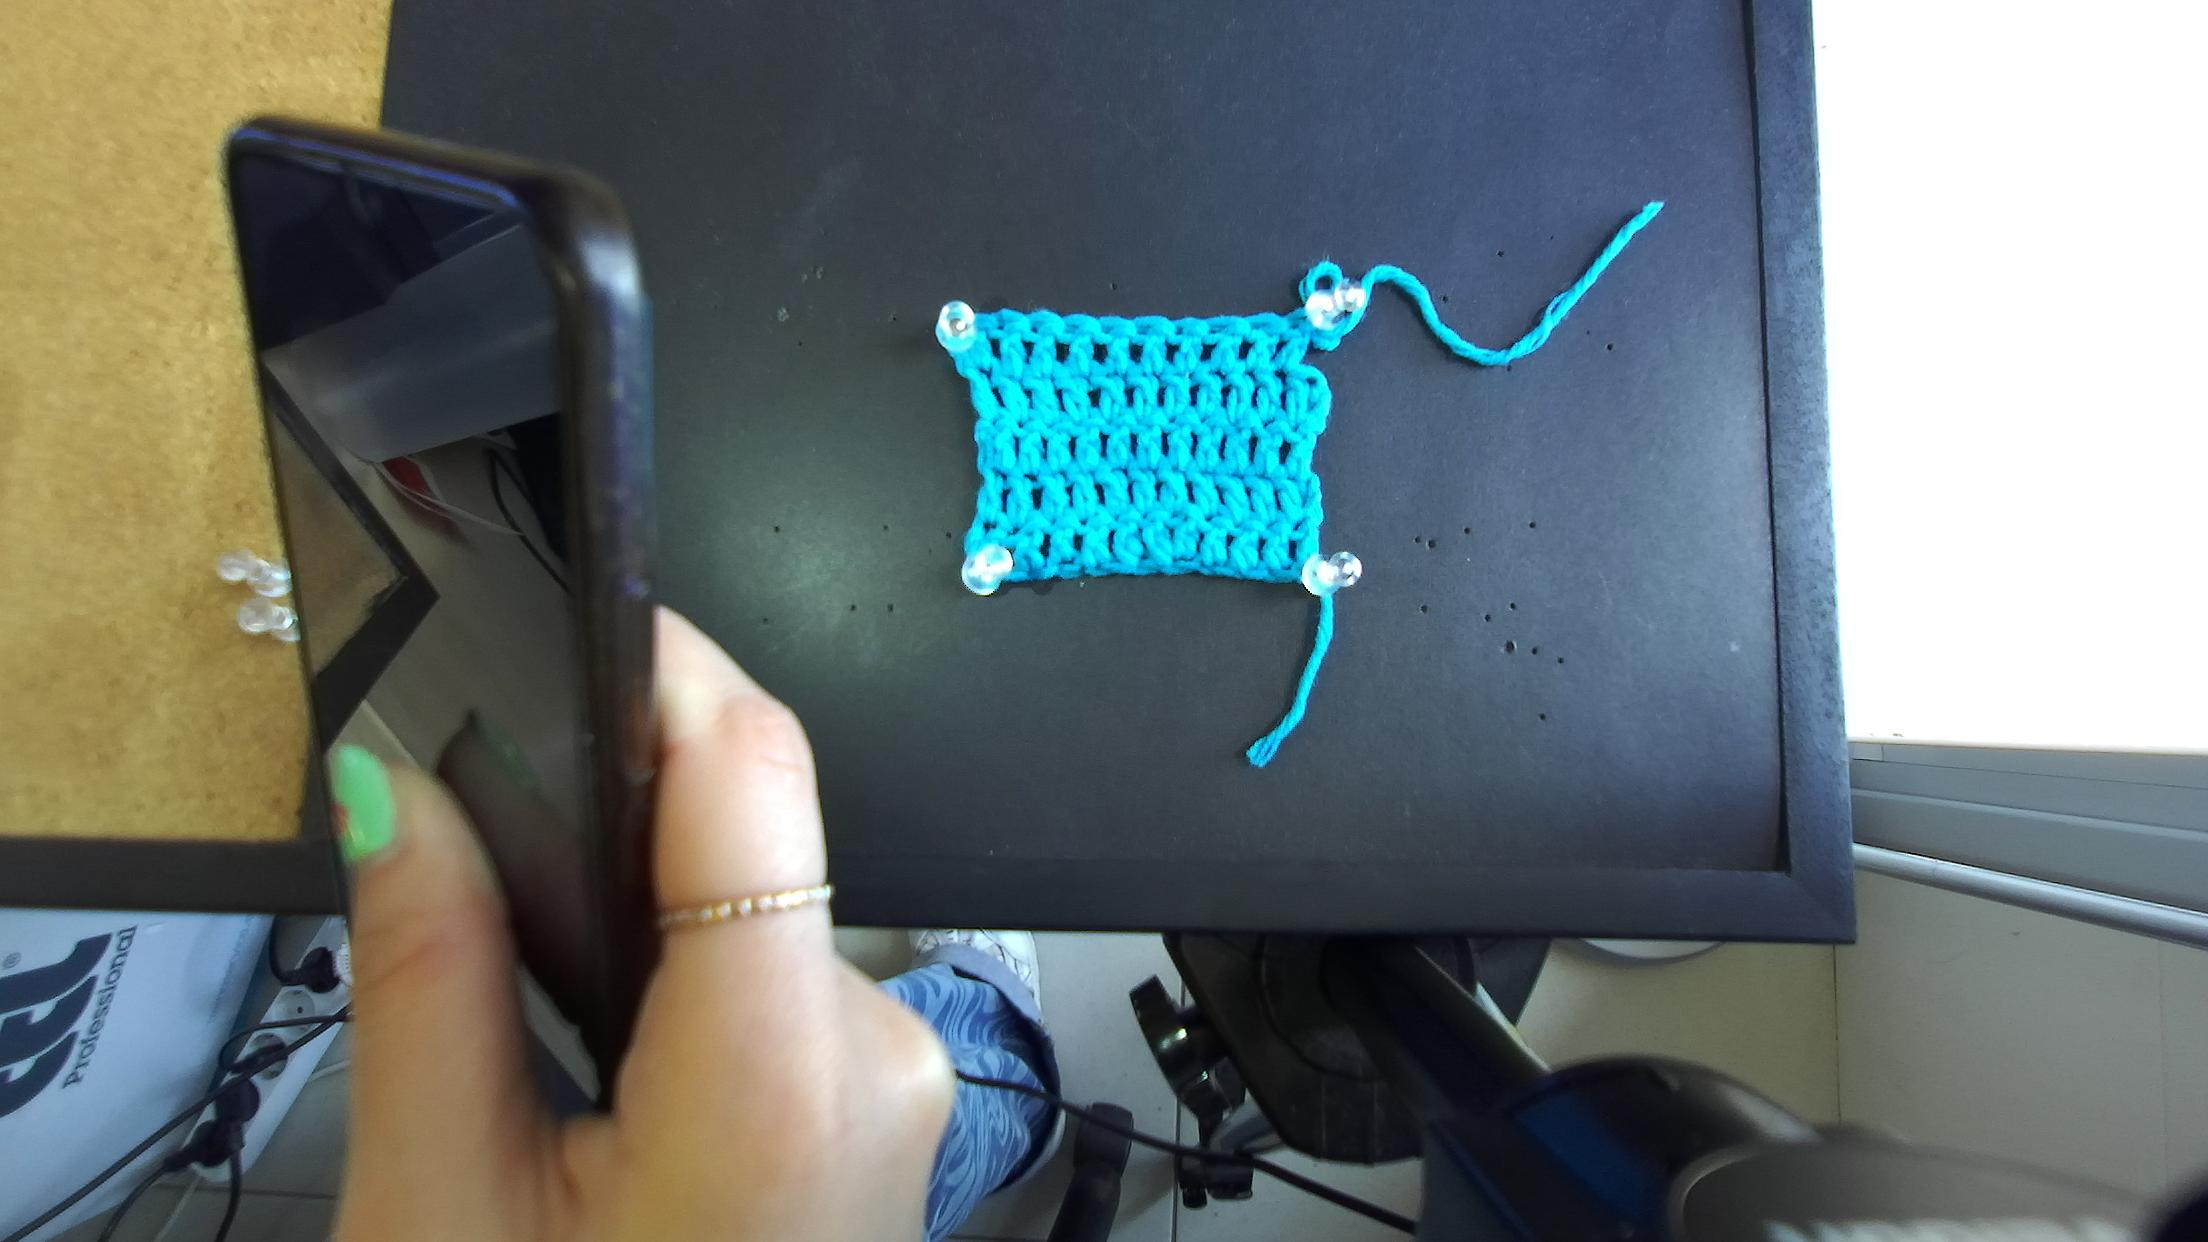hole: (1208, 325, 1228, 335), (1100, 323, 1115, 335), (1064, 324, 1081, 334), (1031, 322, 1045, 334), (1136, 325, 1151, 335), (1250, 322, 1268, 330), (1174, 326, 1183, 336), (997, 319, 1005, 330), (1289, 322, 1300, 330)
swatch: (937, 310, 1347, 599)
